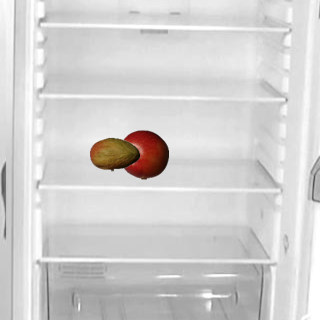Apple Braeburn: (118, 129, 168, 179)
Papaya: (89, 129, 139, 179)
